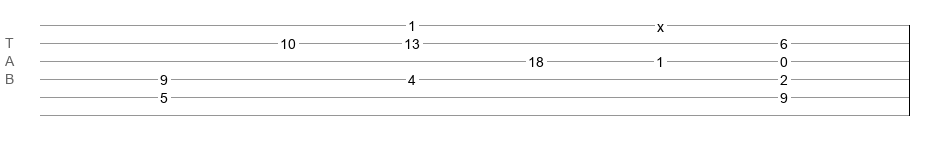0: (780, 54, 788, 64)
1: (408, 18, 416, 28), (656, 54, 664, 64)
10: (280, 36, 296, 46)
13: (404, 36, 420, 46)
18: (528, 54, 544, 64)
2: (780, 72, 788, 82)
4: (408, 72, 416, 82)
5: (160, 90, 168, 100)
6: (780, 36, 788, 46)
9: (160, 72, 168, 82), (780, 90, 788, 100)
x: (657, 19, 664, 27)
